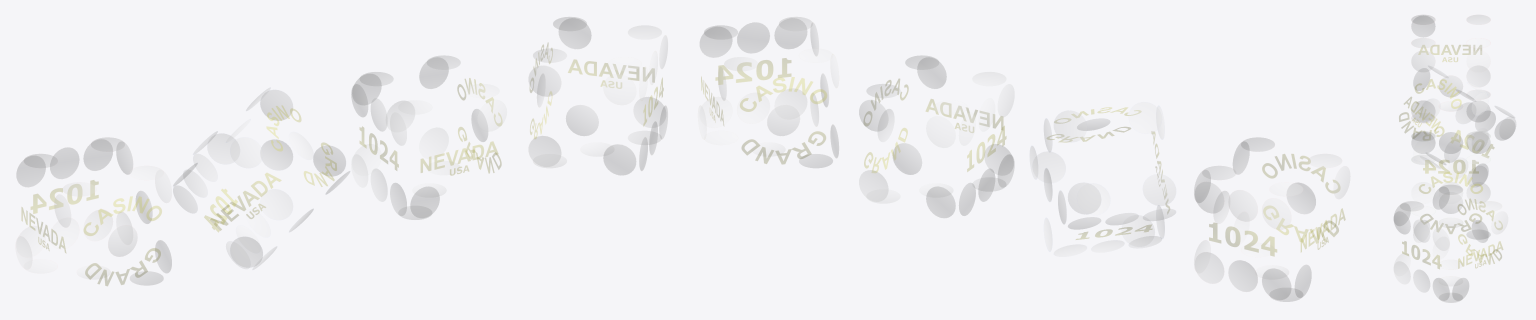
Rendered from casino_dice_lp.glb.
3 views of the same model, side by side, from view 1: azimuth 30°, elevation 25°; view 2: azimuth 150°, elevation 25°; view 3: azimuth 270°, elevation 25° (orthographic). The views are drawn at different scales.
Parts seen in each view (by area): view 1: LP_cube, LP_cube.002, LP_cube.001, LP_cube.003; view 2: LP_cube, LP_cube.003, LP_cube.002, LP_cube.001; view 3: LP_cube.003, LP_cube.001, LP_cube.002, LP_cube.
Part boxes in pixels (bbox=[...]): LP_cube: bbox=[16, 137, 171, 285]; LP_cube.002: bbox=[351, 56, 506, 219]; LP_cube.001: bbox=[173, 88, 349, 269]; LP_cube.003: bbox=[529, 17, 667, 174]; LP_cube: bbox=[1194, 137, 1350, 301]; LP_cube.003: bbox=[698, 17, 838, 167]; LP_cube.002: bbox=[859, 56, 1014, 217]; LP_cube.001: bbox=[1030, 102, 1175, 256]; LP_cube.003: bbox=[1394, 185, 1507, 302]; LP_cube.001: bbox=[1399, 66, 1515, 186]; LP_cube.002: bbox=[1411, 131, 1490, 239]; LP_cube: bbox=[1411, 15, 1490, 122].
Bounding box in the file's own units: 3.72 × 0.8485 × 1.02.
Materials: 4 (4 with a texture image).
